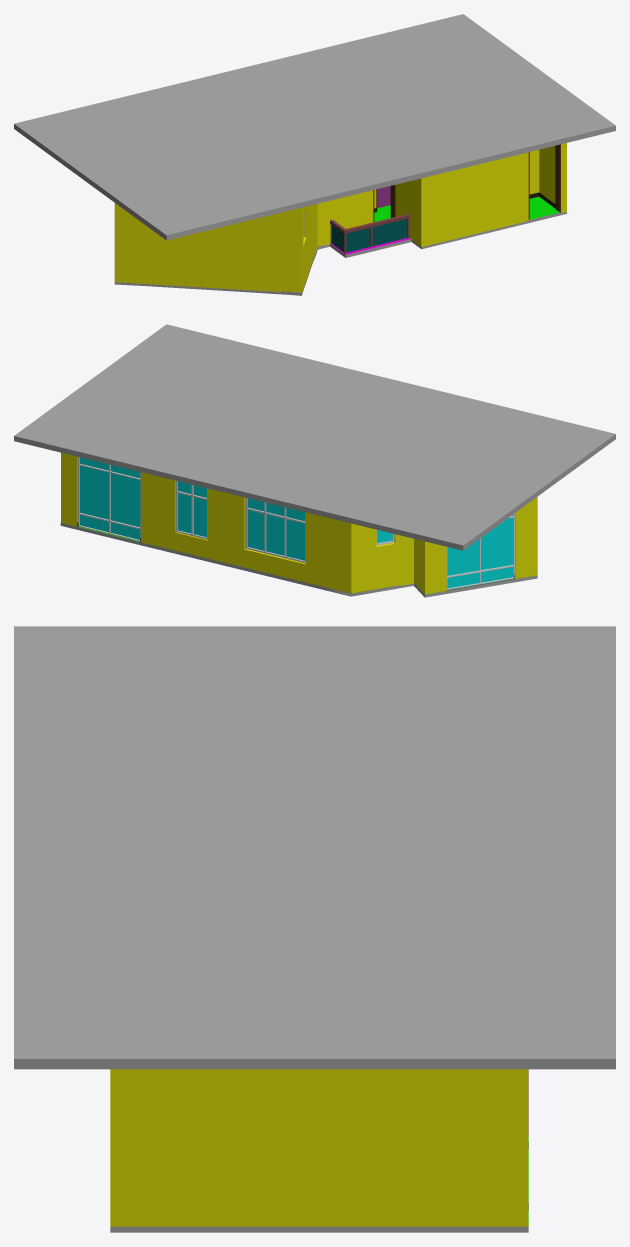
Rendered from Wing_B_Flat_No_01_Type03MatID.fbx.
3 renders of one model, top to bottom at view 1: azimuth 30°, elevation 25°; view 2: azimuth 150°, elevation 25°; view 3: azimuth 270°, elevation 25°, orthographic. The views are drawn at different scales.
Visible parts, largest first — view 1: Roof1, wall, Floor1, Flat_No_03_celling__DoorFrame_Skerting:Glass2, Flat_No_03_celling__DoorFrame_Skerting:pCube2, Flat_No_03_celling__DoorFrame_Skerting:Balcony_Railing_01; view 2: Roof1, wall, Flat_No_03_celling__DoorFrame_Skerting:Glass1 (×2), balacony_door:Door_Glass1, Door_Glass1, Floor1, Flat_No_03_celling__DoorFrame_Skerting:Window_Frame (×2), balacony_door:Flat_No_03_Type03:Door_frame_03, Door_frame_03; view 3: Roof1, wall, Floor1.
Boxes of the visible parts, x1,y1,x2,y2 form: Roof1: [14, 14, 615, 240]; wall: [114, 143, 566, 292]; Floor1: [114, 186, 566, 295]; Flat_No_03_celling__DoorFrame_Skerting:Glass2: [332, 219, 407, 252]; Flat_No_03_celling__DoorFrame_Skerting:pCube2: [528, 144, 560, 219]; Flat_No_03_celling__DoorFrame_Skerting:Balcony_Railing_01: [330, 214, 410, 233]; Roof1: [14, 324, 615, 550]; wall: [61, 452, 537, 594]; Flat_No_03_celling__DoorFrame_Skerting:Glass1 (×2): [178, 481, 305, 560]; balacony_door:Door_Glass1: [80, 457, 140, 539]; Door_Glass1: [447, 514, 513, 588]; Floor1: [60, 523, 537, 597]; Flat_No_03_celling__DoorFrame_Skerting:Window_Frame (×2): [176, 481, 305, 563]; balacony_door:Flat_No_03_Type03:Door_frame_03: [78, 457, 140, 541]; Door_frame_03: [446, 513, 514, 589]; Roof1: [14, 626, 615, 1069]; wall: [110, 1069, 528, 1226]; Floor1: [110, 1069, 528, 1232].
Bounding box in the file's own units: 1508 × 322 × 886.
